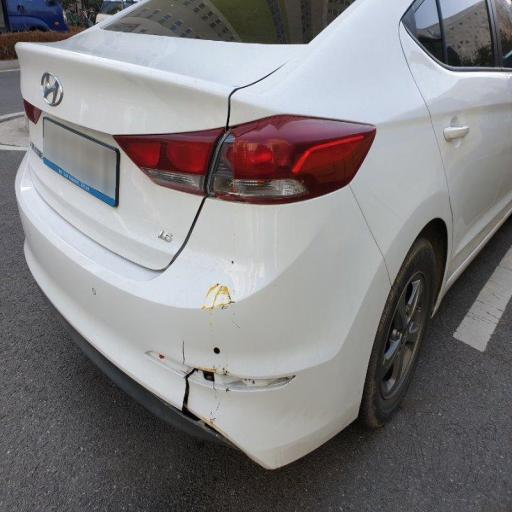broken: (110, 225, 343, 470)
